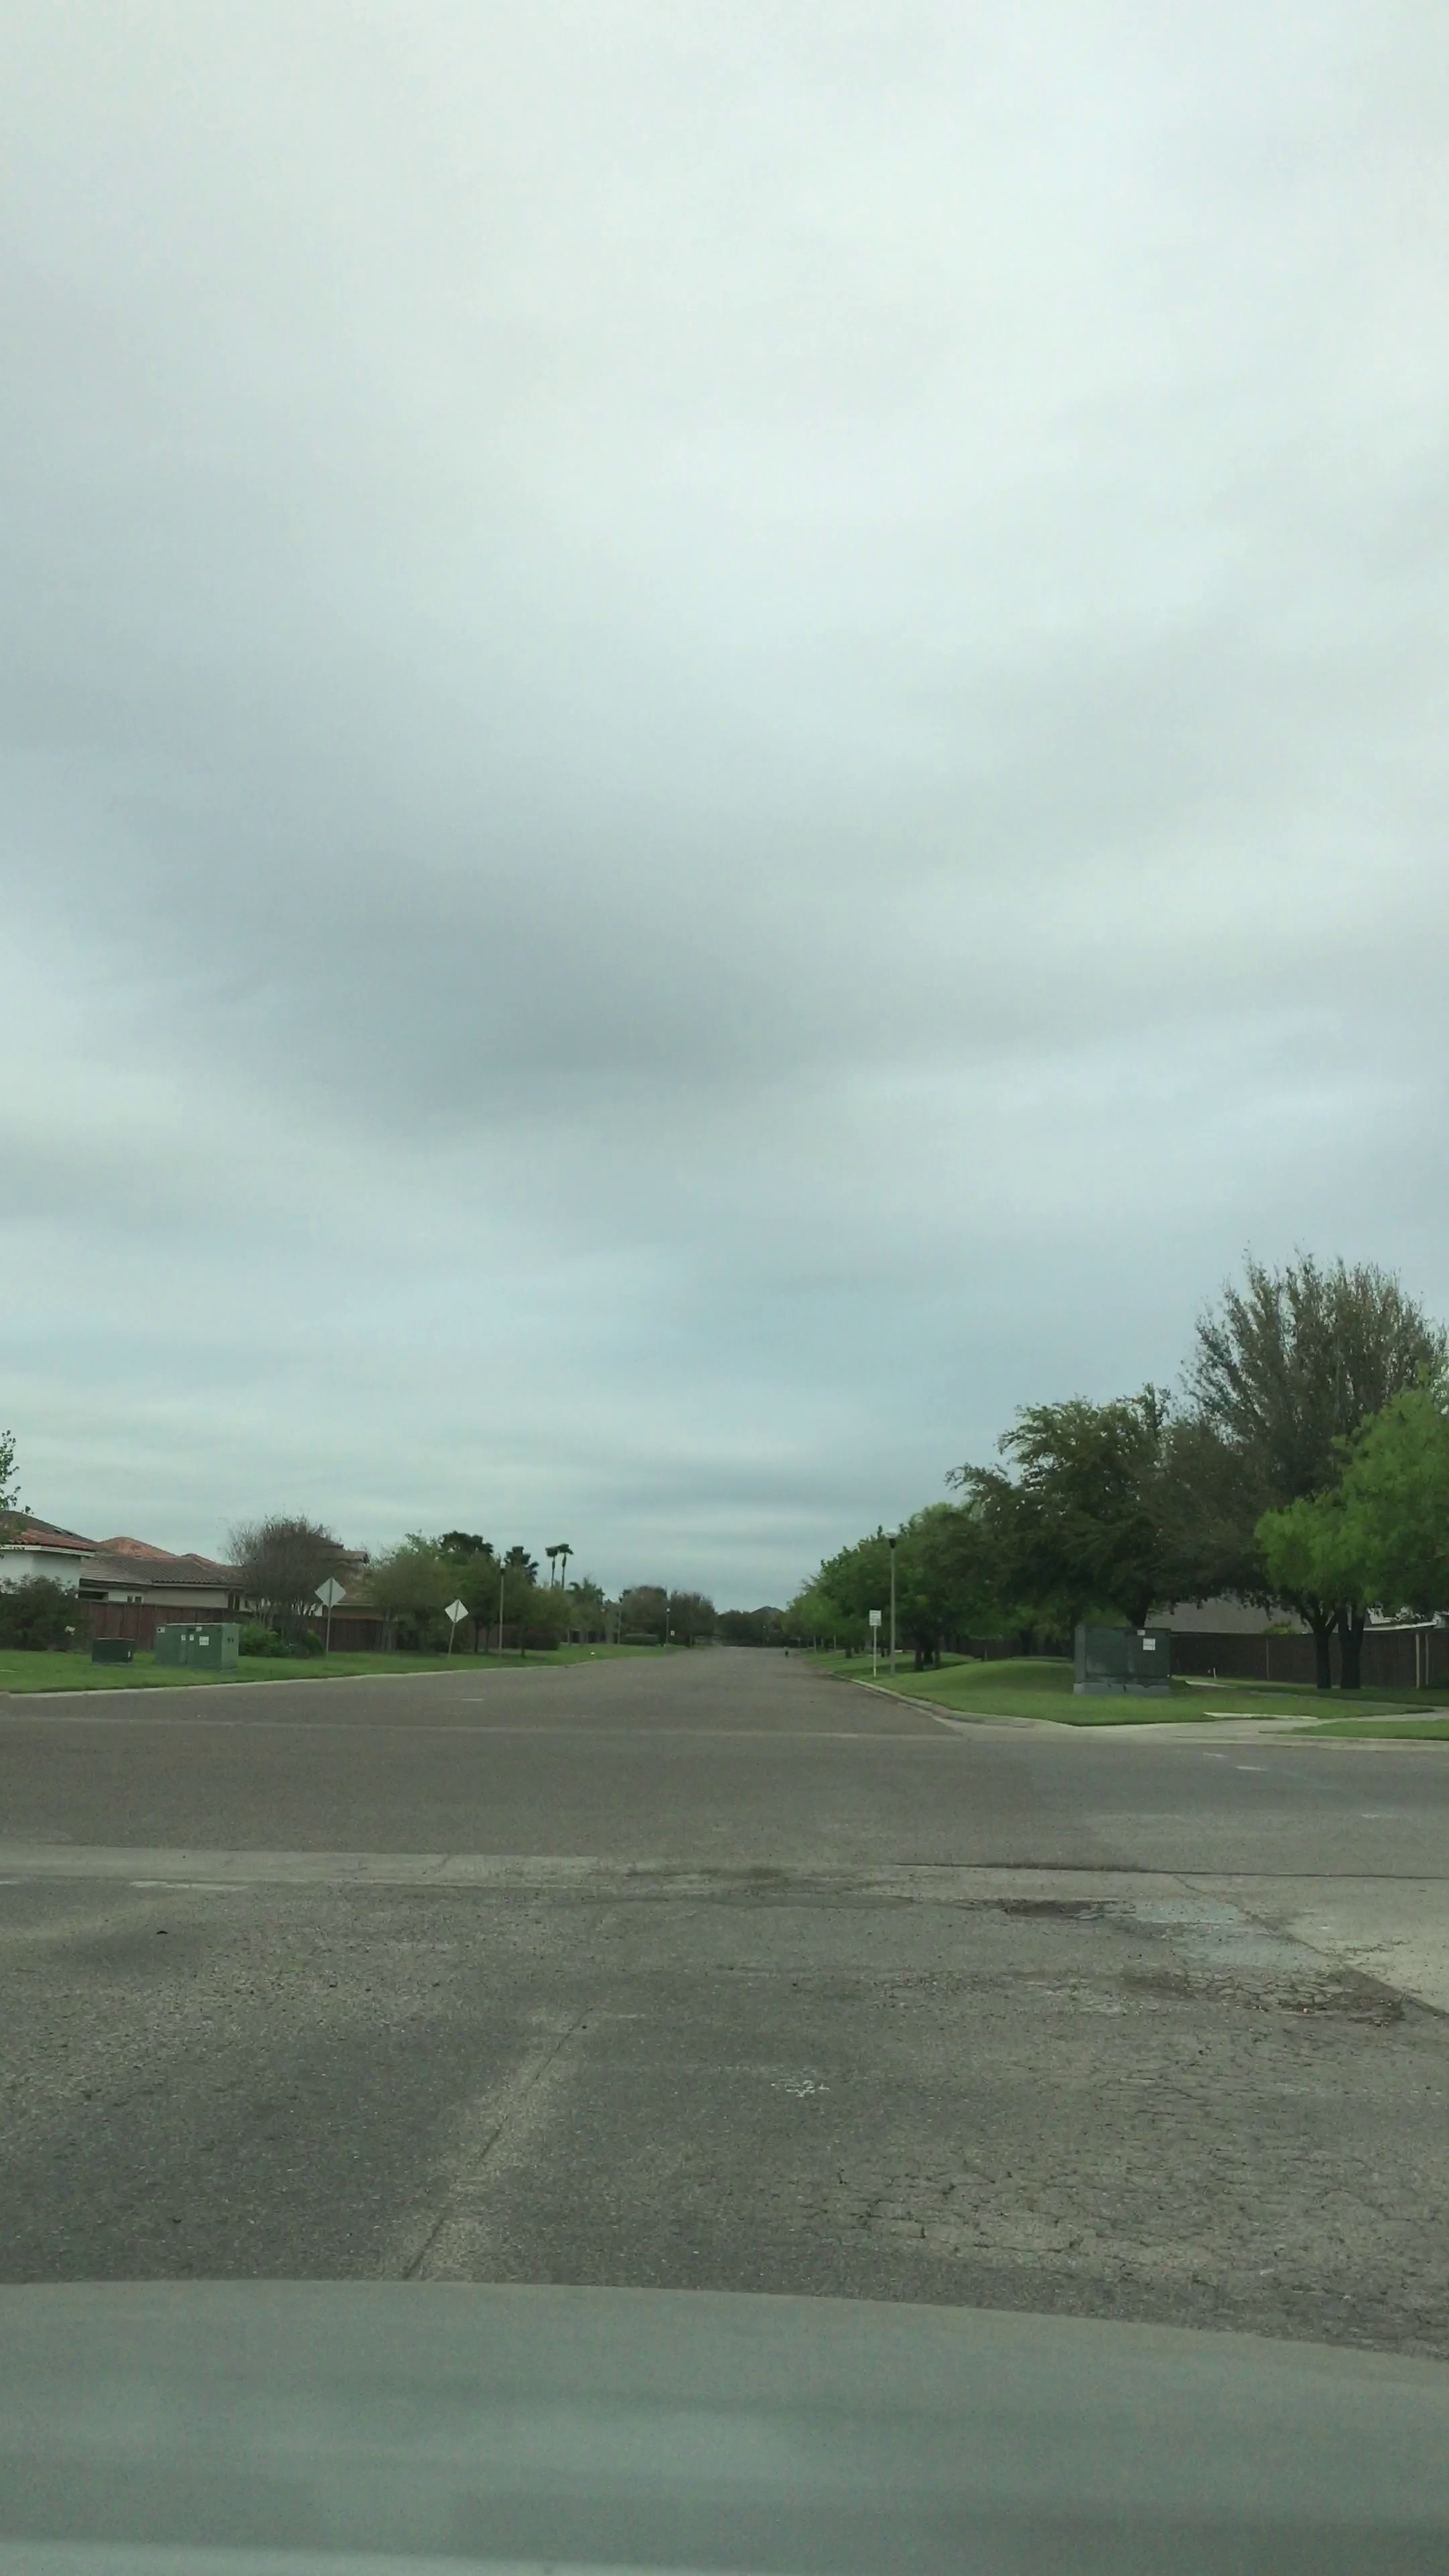alligatorCrack: (909, 2091, 1410, 2293), (1131, 1943, 1313, 2040)
pothole: (1322, 1967, 1414, 2042), (993, 1890, 1108, 1925)
